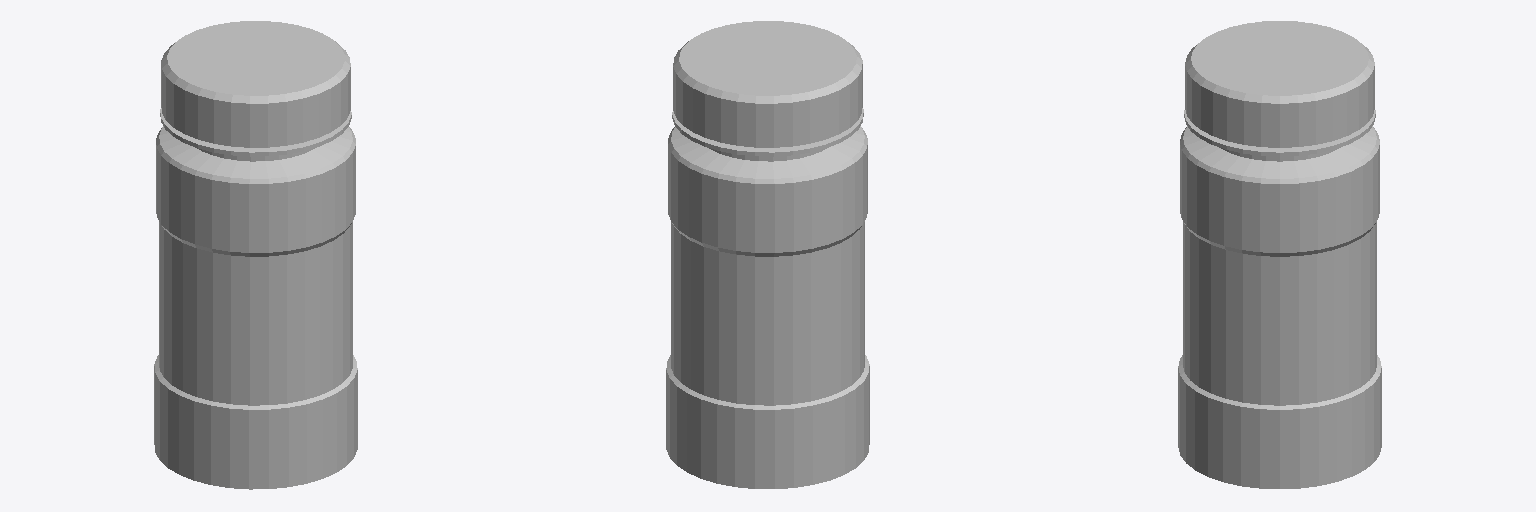
The model's file is bubble_bottle (1).obj.
3 renders of one model, left to right at view 1: azimuth 30°, elevation 25°; view 2: azimuth 150°, elevation 25°; view 3: azimuth 270°, elevation 25°, orthographic.
Parts seen in each view (by area): view 1: Bottle; view 2: Bottle; view 3: Bottle.
Part boxes in pixels (left/top/right/bottom): Bottle: left=154, top=21, right=357, bottom=489; Bottle: left=666, top=21, right=869, bottom=488; Bottle: left=1178, top=21, right=1381, bottom=488.
Bounding box in the file's own units: 1.59 × 3.41 × 1.59.